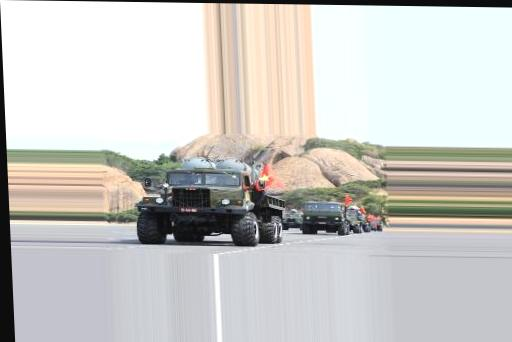License_Plate: (179, 205, 198, 216)
